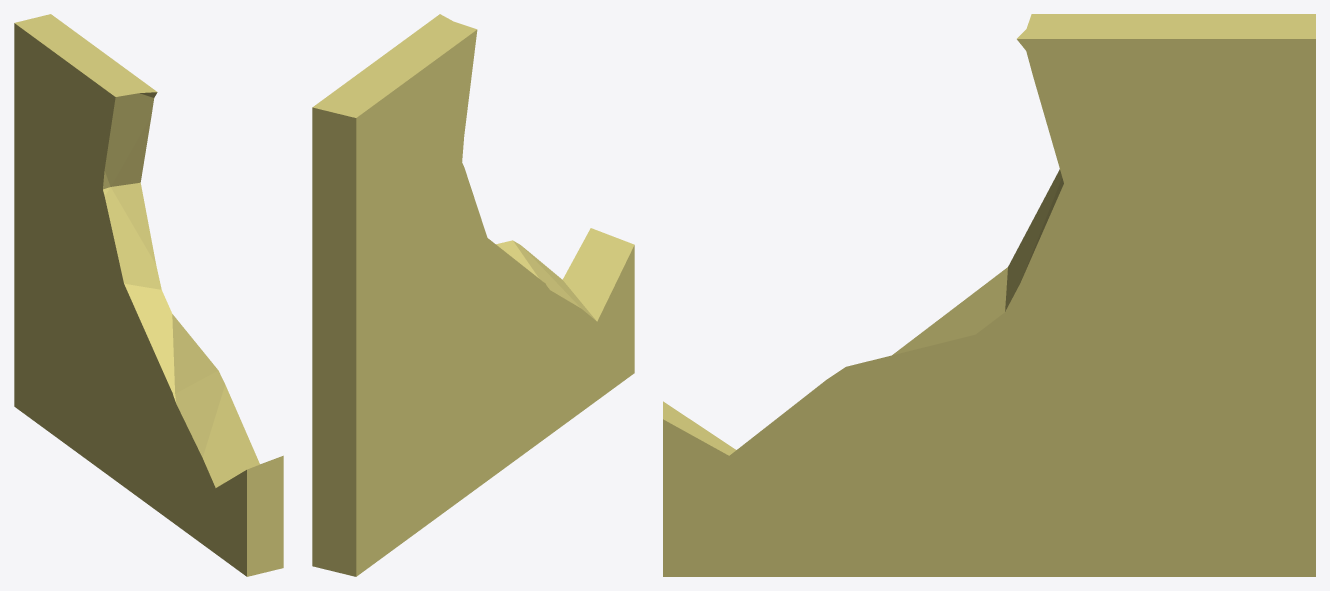
Rendered from BrokenWall4.glb.
3 renders of one model, left to right at view 1: azimuth 30°, elevation 25°; view 2: azimuth 150°, elevation 25°; view 3: azimuth 270°, elevation 25°, orthographic. The views are drawn at different scales.
Parts seen in each view (by area): view 1: BrokenWall4; view 2: BrokenWall4; view 3: BrokenWall4.
Part boxes in pixels (x1,y1,x2,y2): BrokenWall4: (14, 14, 283, 576); BrokenWall4: (312, 14, 634, 576); BrokenWall4: (663, 14, 1315, 576).
Bounding box in the file's own units: 0.2 × 2 × 2.2.
